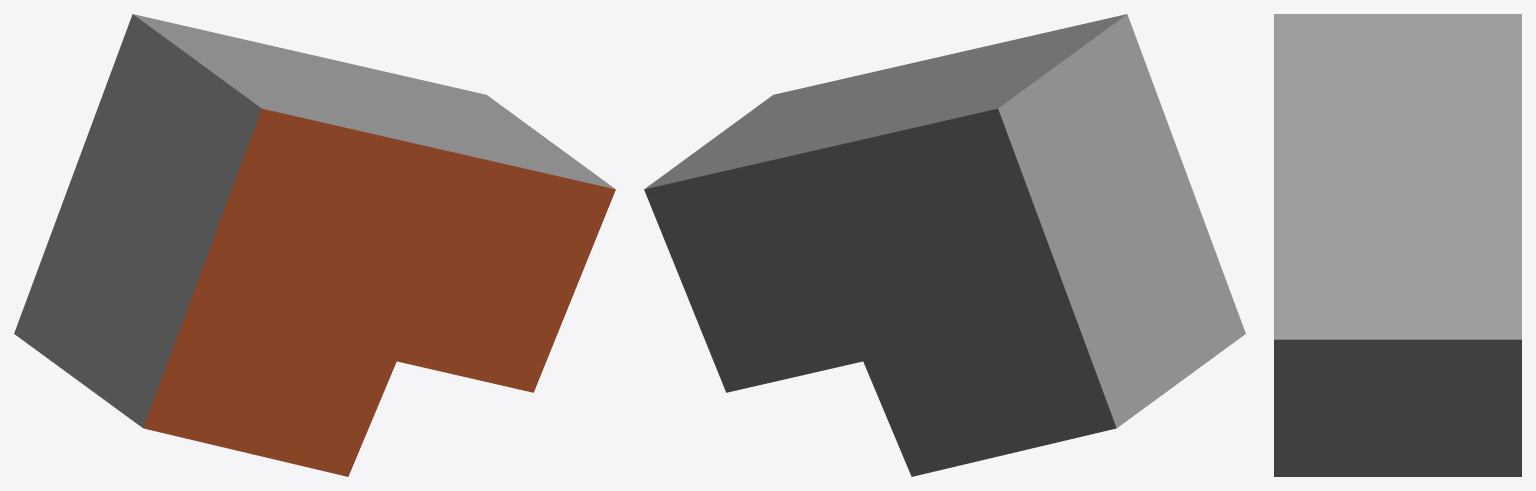
The model's file is construction_6553_assumed_A_Casa_h6m.obj.
3 renders of one model, left to right at view 1: azimuth 30°, elevation 25°; view 2: azimuth 150°, elevation 25°; view 3: azimuth 270°, elevation 25°, orthographic. The views are drawn at different scales.
Parts seen in each view (by area): view 1: construction_6553_assumed_A_Casa; view 2: construction_6553_assumed_A_Casa; view 3: construction_6553_assumed_A_Casa.
Part boxes in pixels (box(x1,y1,x2,y2)): construction_6553_assumed_A_Casa: box(14, 14, 615, 476); construction_6553_assumed_A_Casa: box(644, 14, 1245, 476); construction_6553_assumed_A_Casa: box(1274, 14, 1521, 476).
Size of the model in its own units: 12.67 by 9.98 by 6.
